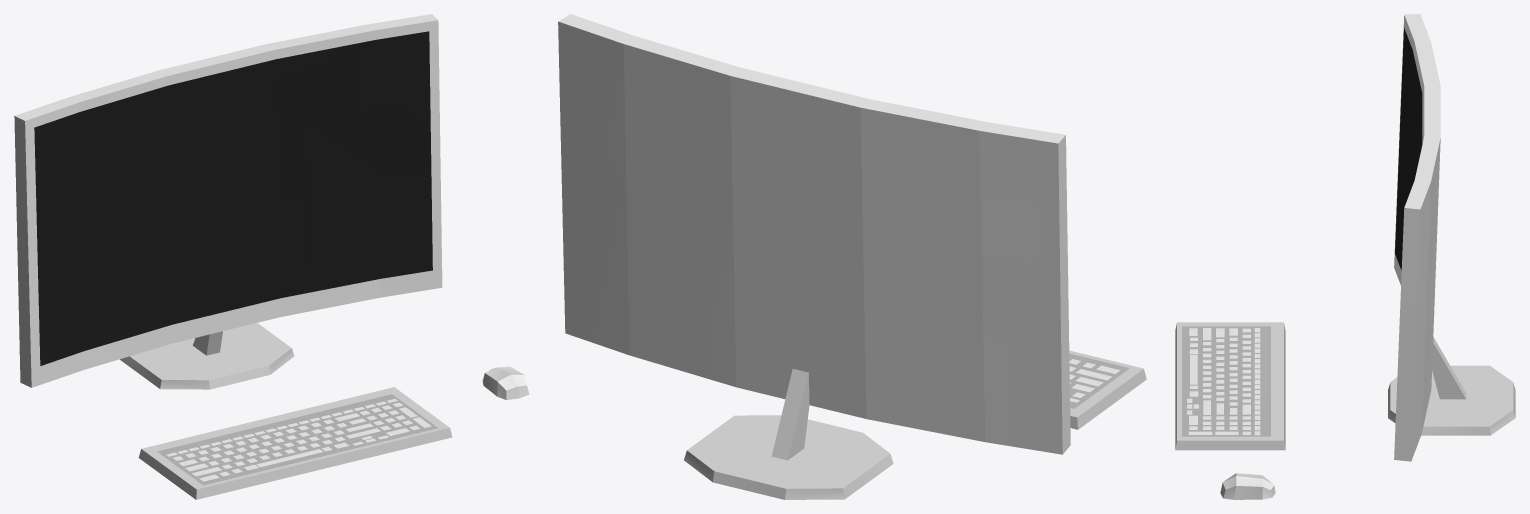
The model's file is electronics_028.glb.
3 views of the same model, side by side, from view 1: azimuth 30°, elevation 25°; view 2: azimuth 150°, elevation 25°; view 3: azimuth 270°, elevation 25° (orthographic). The views are drawn at different scales.
Visible parts, largest first — view 1: electronics_028; view 2: electronics_028; view 3: electronics_028.
Part boxes in pixels (bbox=[...]): electronics_028: bbox=[14, 14, 529, 499]; electronics_028: bbox=[558, 14, 1146, 499]; electronics_028: bbox=[1175, 14, 1515, 499].
Bounding box in the file's own units: 0.7082 × 0.4949 × 0.5211.
Materials: 1 (1 with a texture image).
